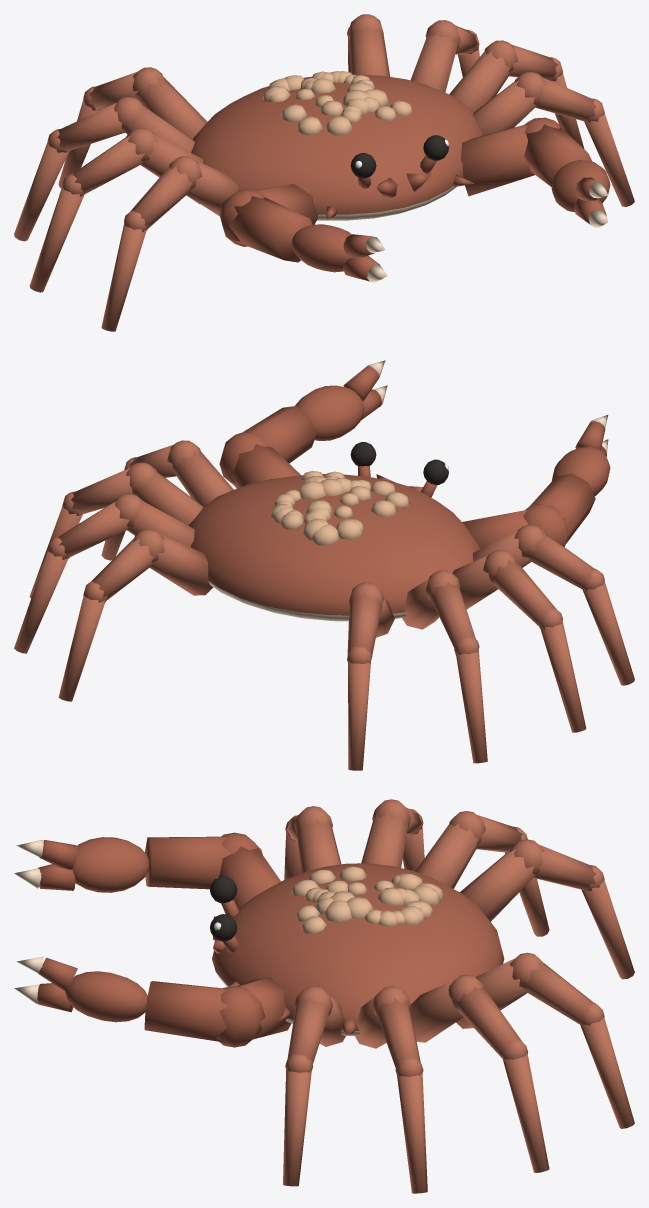
Rendered from sea-hair-crab.glb.
3 renders of one model, top to bottom at view 1: azimuth 30°, elevation 25°; view 2: azimuth 150°, elevation 25°; view 3: azimuth 270°, elevation 25°, orthographic. The views are drawn at different scales.
Parts seen in each view (by area): view 1: crab; view 2: crab; view 3: crab.
Part boxes in pixels (left/top/right/bottom): crab: left=14, top=14, right=634, bottom=331; crab: left=14, top=360, right=634, bottom=770; crab: left=14, top=799, right=634, bottom=1193.
Bounding box in the file's own units: 0.4771 × 0.1288 × 0.4331.
